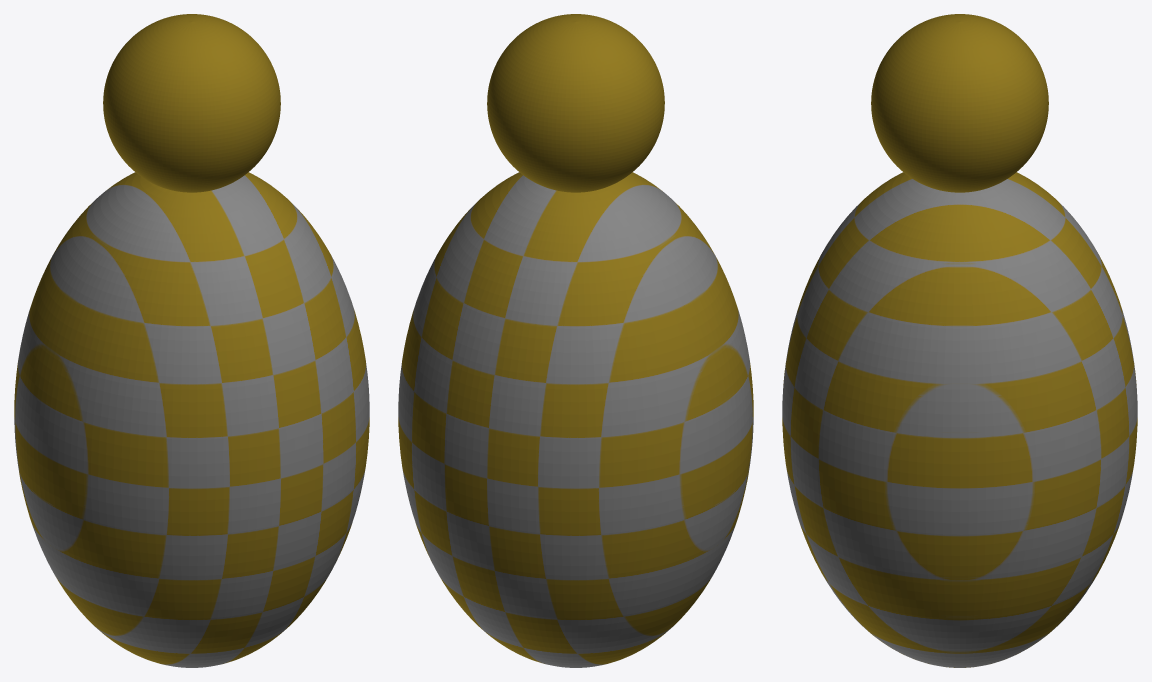
The model's file is BOD2_BMC4_BCC0_BPT4_FRC0_HEA0_HMC4_HCC0_HPT0_ELT0_ERT0_ELL0_ERL0_AP0_AAL0_AAR0_BEK0.fbx.
The picture shows the model from 3 angles, left to right: view 1: azimuth 30°, elevation 25°; view 2: azimuth 150°, elevation 25°; view 3: azimuth 270°, elevation 25°; orthographic projection.
Visible parts, largest first — view 1: Body, Head; view 2: Body, Head; view 3: Body, Head.
Part boxes in pixels (x1,y1,x2,y2): Body: (14, 172, 369, 667); Head: (103, 14, 280, 192); Body: (398, 172, 753, 667); Head: (487, 14, 664, 192); Body: (782, 172, 1137, 667); Head: (871, 14, 1048, 192).
Size of the model in its own units: 98.72 by 195 by 98.72.
2 materials, 2 textured.
